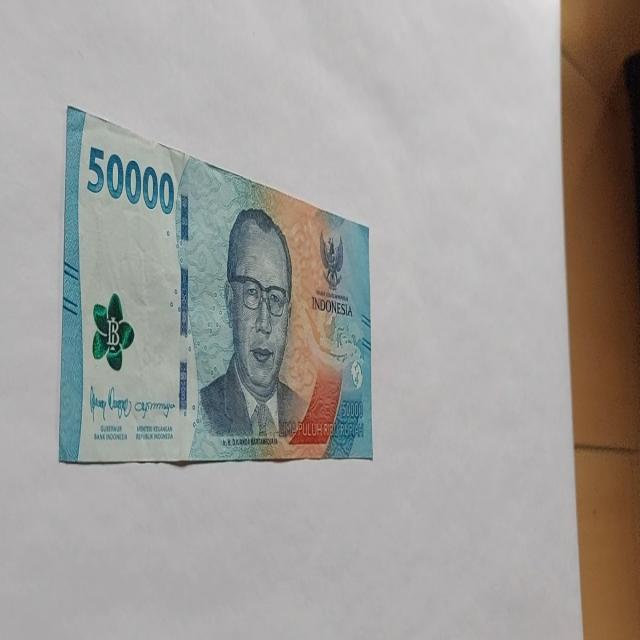lima puluh ribu rupiah: (58, 104, 374, 466), (193, 205, 309, 452)
